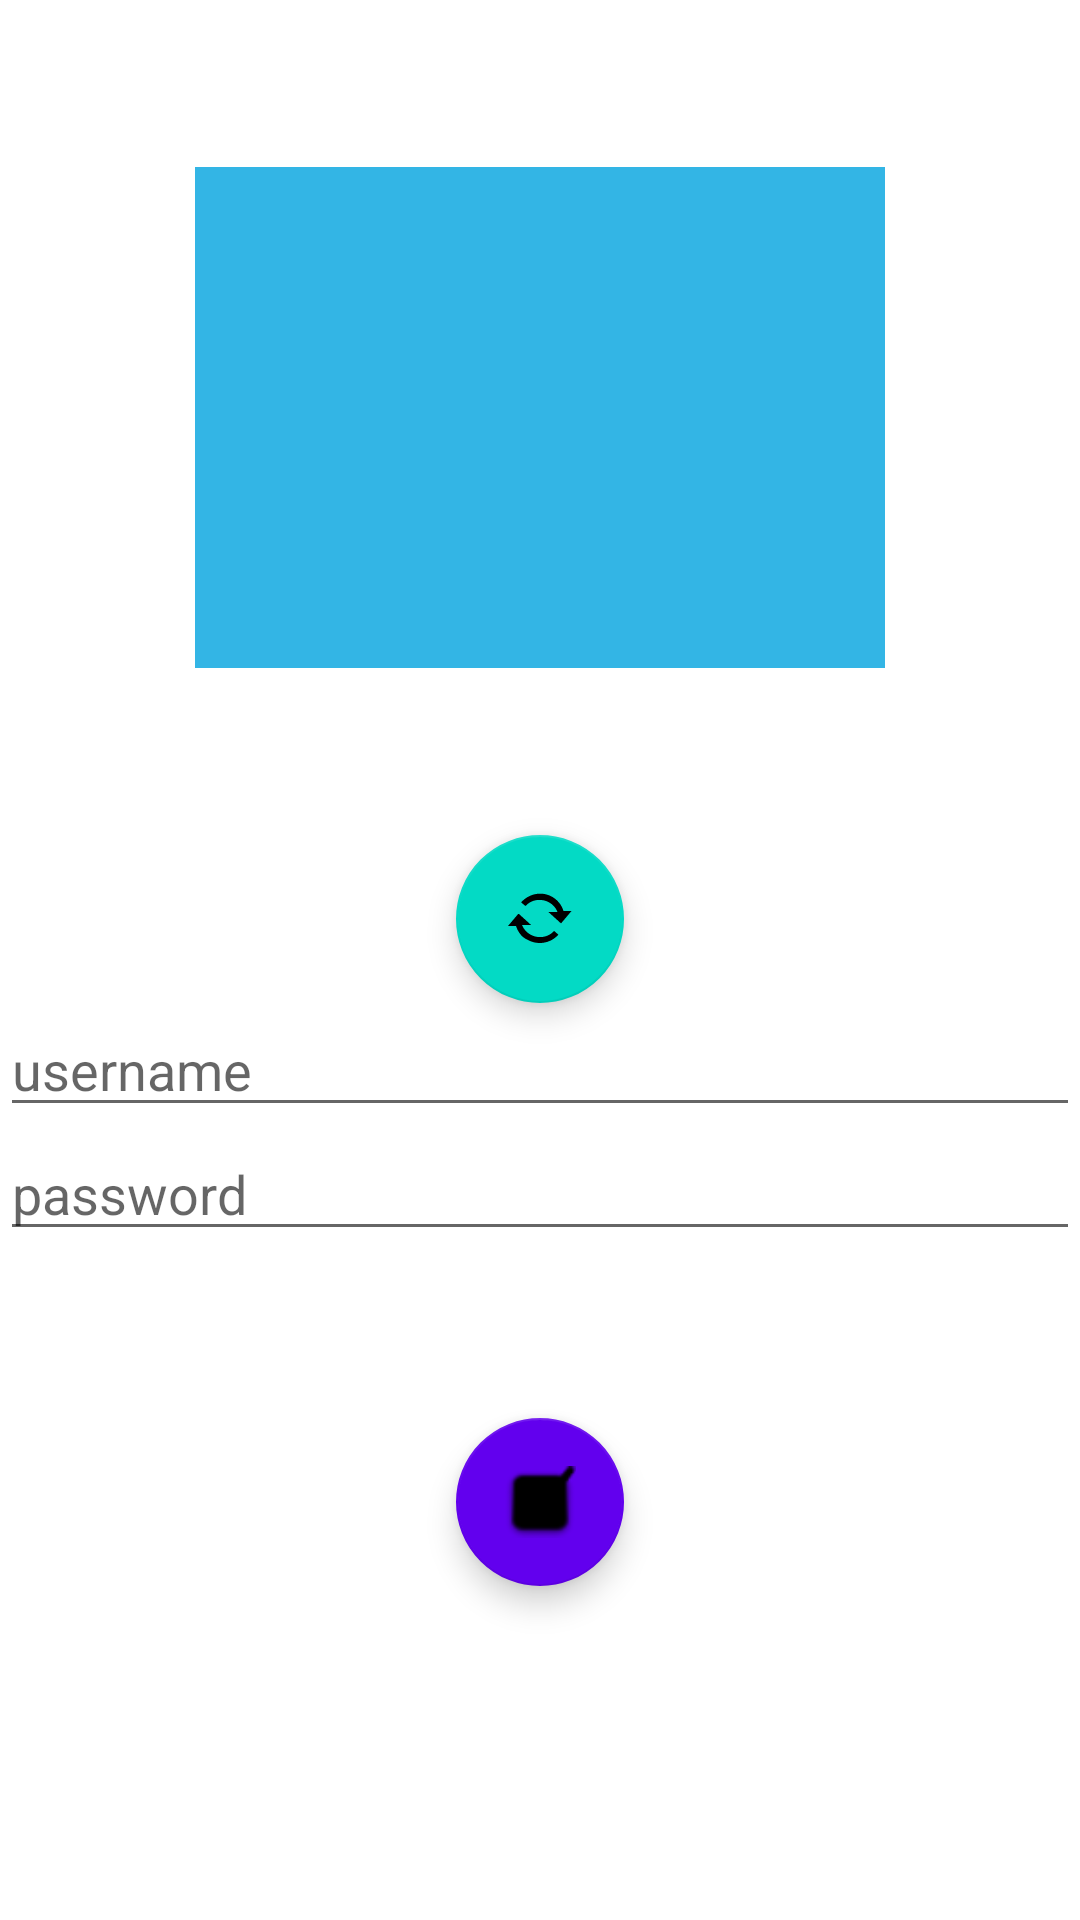

Where to tap for icons on this 1080x1920 app screen, as [x,y]:
sync: [540,919]
